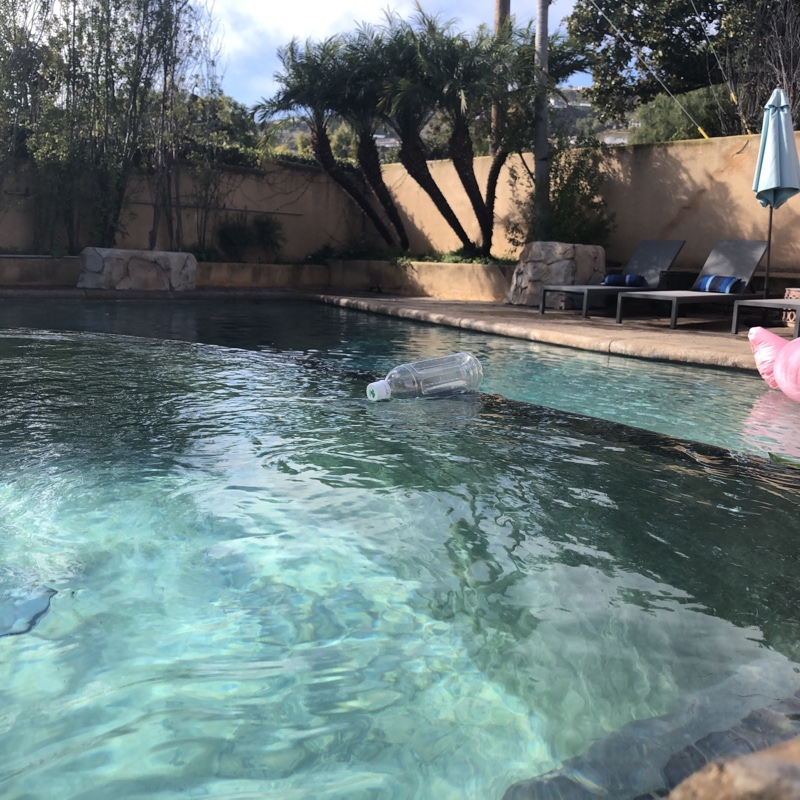Plastic Bottle: (364, 348, 489, 405)
